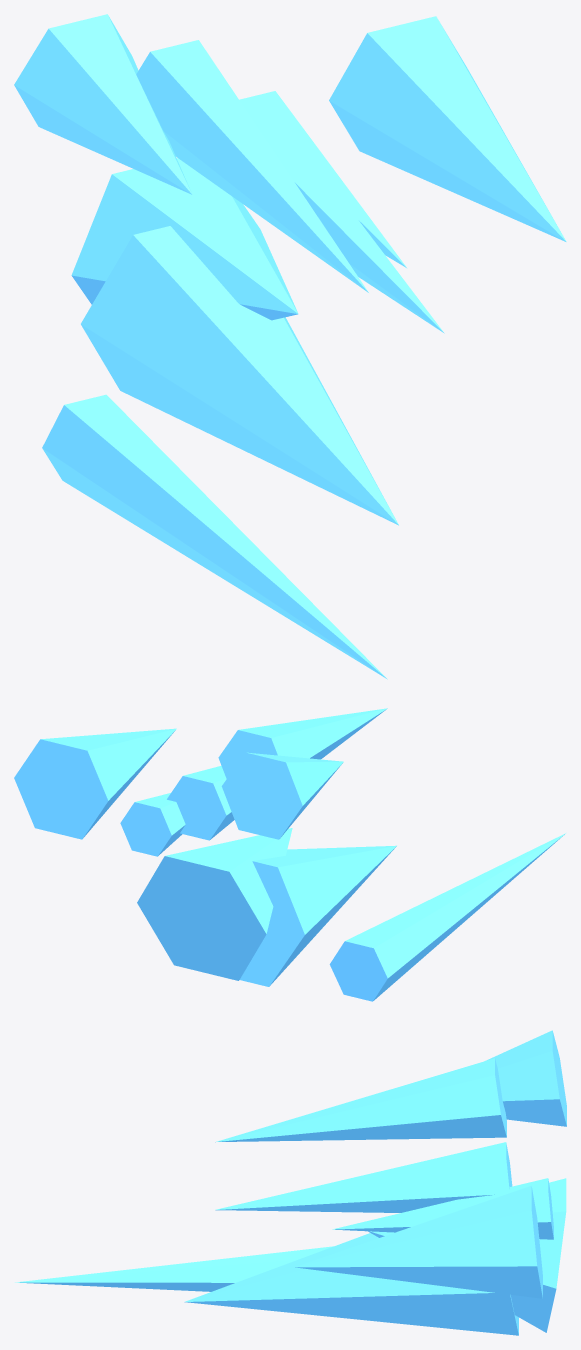
Rendered from Akariz_Crystal_Azure.glb.
The picture shows the model from 3 angles, top to bottom: view 1: azimuth 30°, elevation 25°; view 2: azimuth 150°, elevation 25°; view 3: azimuth 270°, elevation 25°; orthographic projection. The views are drawn at different scales.
Visible parts, largest first — view 1: Akariz_Crystal_Azure_6, Akariz_Crystal_Azure_2, Akariz_Crystal_Azure_1, Akariz_Crystal_Azure_0, Akariz_Crystal_Azure_3, Akariz_Crystal_Azure_7, Akariz_Crystal_Azure_4, Akariz_Crystal_Azure_5; view 2: Akariz_Crystal_Azure_3, Akariz_Crystal_Azure_2, Akariz_Crystal_Azure_6, Akariz_Crystal_Azure_1, Akariz_Crystal_Azure_7, Akariz_Crystal_Azure_0, Akariz_Crystal_Azure_4, Akariz_Crystal_Azure_5; view 3: Akariz_Crystal_Azure_2, Akariz_Crystal_Azure_6, Akariz_Crystal_Azure_0, Akariz_Crystal_Azure_4, Akariz_Crystal_Azure_1, Akariz_Crystal_Azure_7, Akariz_Crystal_Azure_5, Akariz_Crystal_Azure_3.
Boxes of the visible parts, x1=… form: Akariz_Crystal_Azure_6: x1=81, y1=226, x2=398, y2=525; Akariz_Crystal_Azure_2: x1=329, y1=16, x2=566, y2=241; Akariz_Crystal_Azure_1: x1=42, y1=394, x2=387, y2=679; Akariz_Crystal_Azure_0: x1=136, y1=40, x2=368, y2=292; Akariz_Crystal_Azure_3: x1=71, y1=158, x2=298, y2=320; Akariz_Crystal_Azure_7: x1=14, y1=14, x2=192, y2=194; Akariz_Crystal_Azure_4: x1=240, y1=95, x2=444, y2=333; Akariz_Crystal_Azure_5: x1=239, y1=91, x2=407, y2=268; Akariz_Crystal_Azure_3: x1=137, y1=828, x2=292, y2=980; Akariz_Crystal_Azure_2: x1=14, y1=728, x2=176, y2=839; Akariz_Crystal_Azure_6: x1=240, y1=845, x2=396, y2=986; Akariz_Crystal_Azure_1: x1=329, y1=833, x2=565, y2=1001; Akariz_Crystal_Azure_7: x1=221, y1=752, x2=343, y2=839; Akariz_Crystal_Azure_0: x1=218, y1=708, x2=387, y2=778; Akariz_Crystal_Azure_4: x1=167, y1=765, x2=234, y2=840; Akariz_Crystal_Azure_5: x1=120, y1=793, x2=185, y2=856; Akariz_Crystal_Azure_2: x1=295, y1=1185, x2=542, y2=1298; Akariz_Crystal_Azure_6: x1=184, y1=1233, x2=518, y2=1335; Akariz_Crystal_Azure_0: x1=215, y1=1058, x2=506, y2=1142; Akariz_Crystal_Azure_4: x1=215, y1=1142, x2=512, y2=1212; Akariz_Crystal_Azure_1: x1=15, y1=1246, x2=333, y2=1291; Akariz_Crystal_Azure_7: x1=485, y1=1030, x2=566, y2=1126; Akariz_Crystal_Azure_5: x1=332, y1=1178, x2=553, y2=1239; Akariz_Crystal_Azure_3: x1=368, y1=1178, x2=566, y2=1332.
Size of the model in its own units: 1.6 by 1.22 by 2.19.
